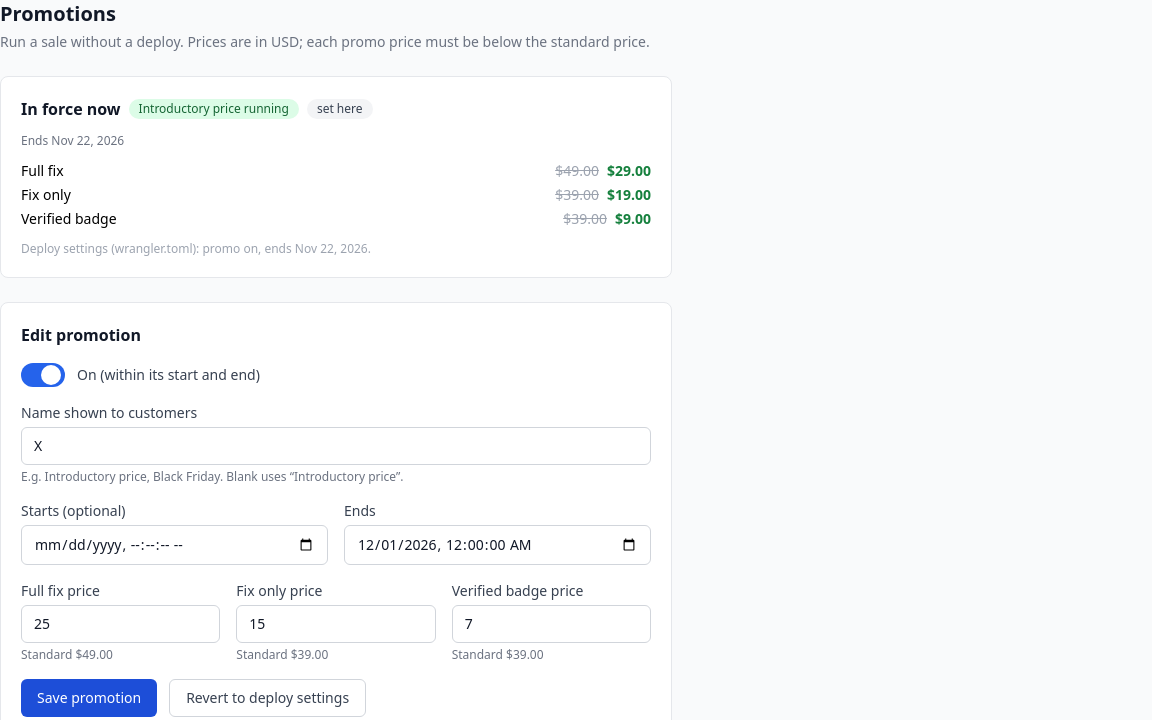
Test case: AdminPromo › reverts to the deploy settings after confirmation
The width and height of the screenshot is (1152, 720).
Click the button "Revert to deploy settings" at point(268, 698), box left=169, top=679, right=366, bottom=717
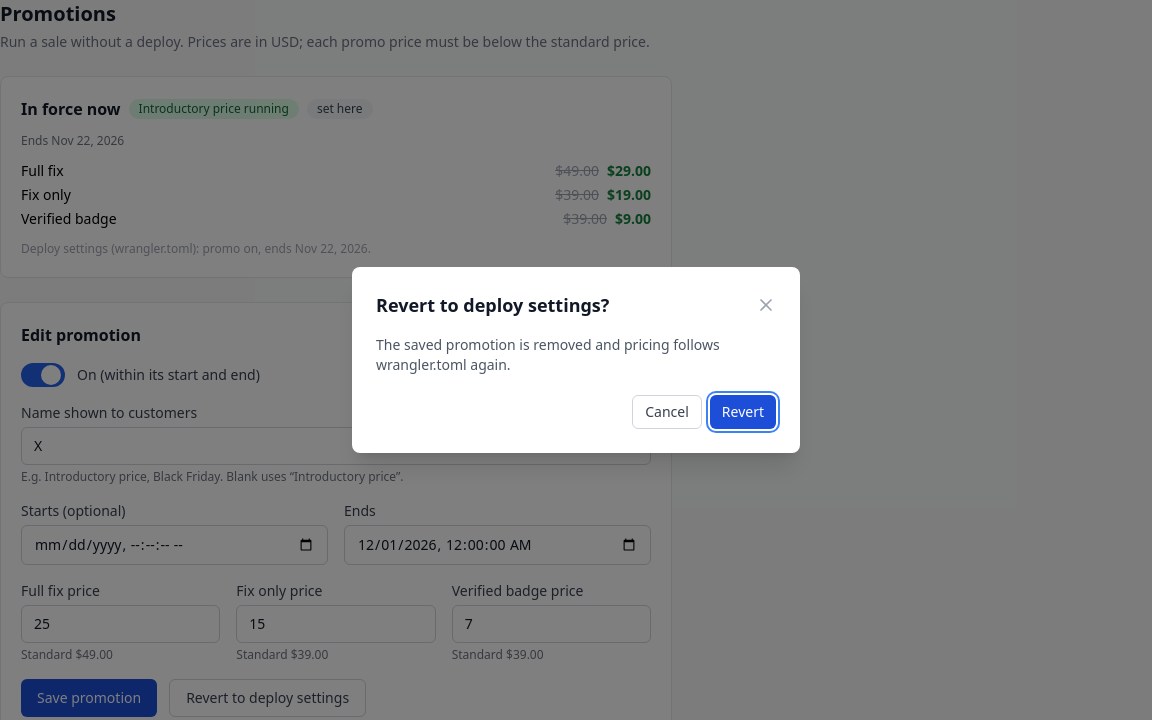
Click the button "Revert" at point(743, 412), box left=710, top=395, right=776, bottom=429
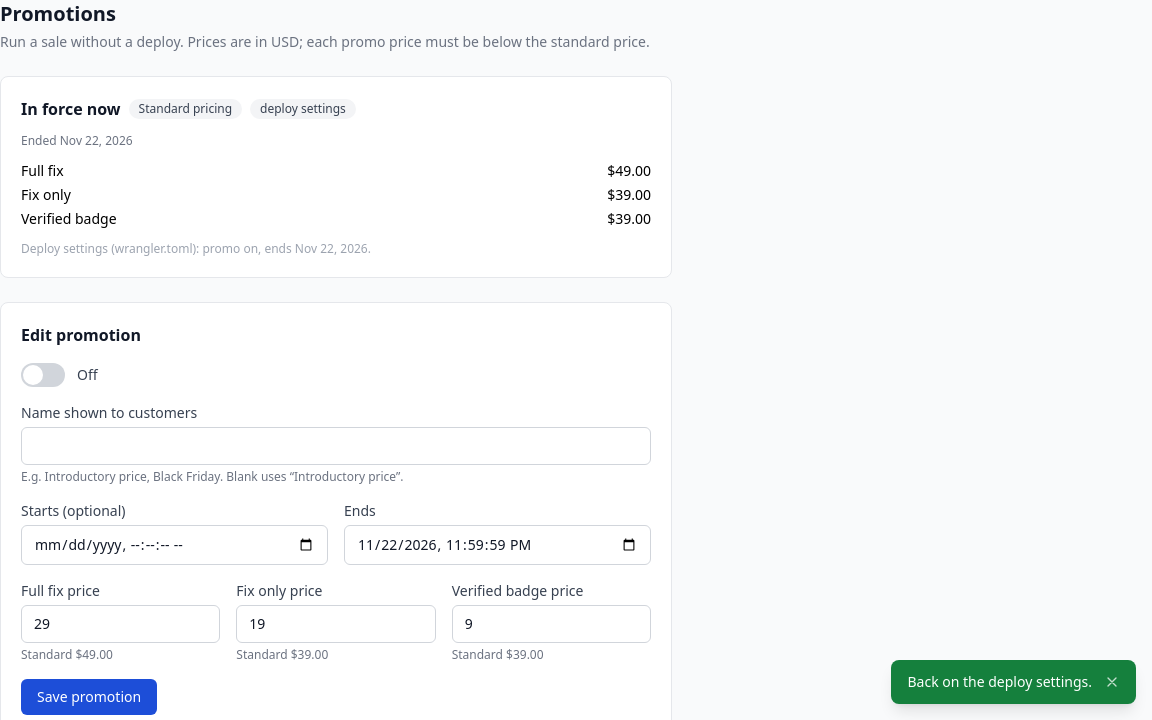
Expected: the button "Revert to deploy" is gone
